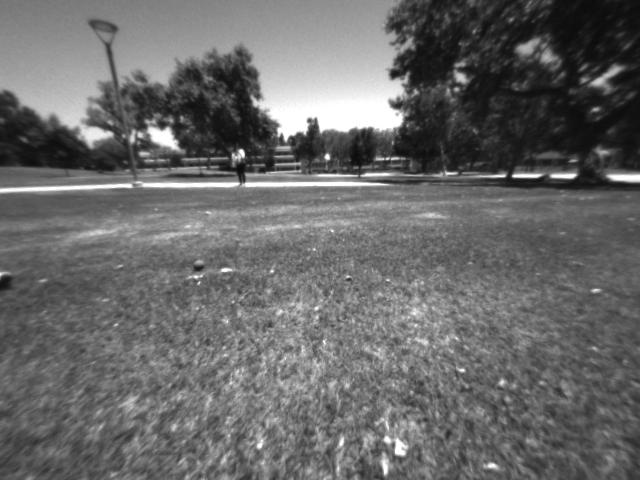dogtoy: (185, 256, 211, 275)
